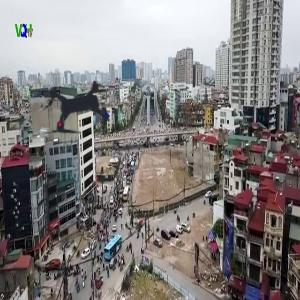drone: (15, 50, 142, 177)
